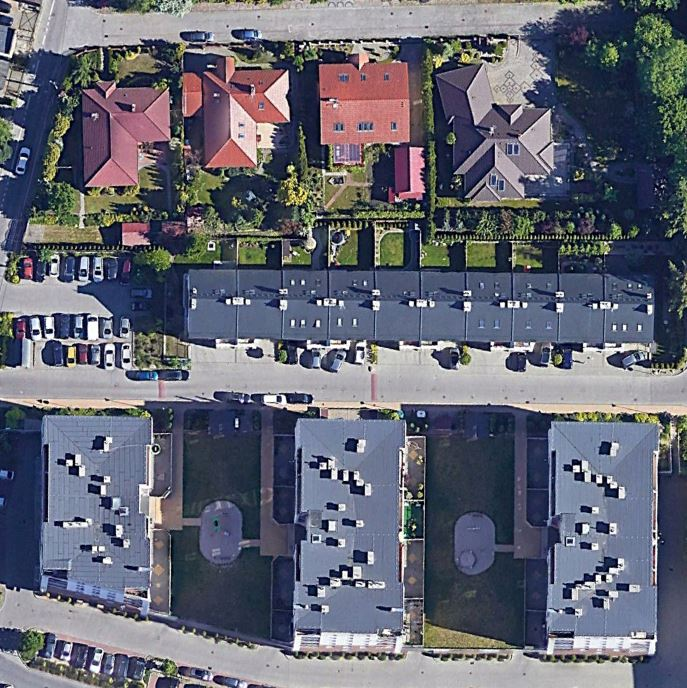block of flats: (288, 412, 412, 663), (538, 417, 655, 670), (36, 411, 158, 622)
family house: (428, 59, 557, 210), (177, 54, 297, 173), (78, 70, 180, 191), (313, 48, 415, 161)
terrace house: (176, 261, 659, 352)
